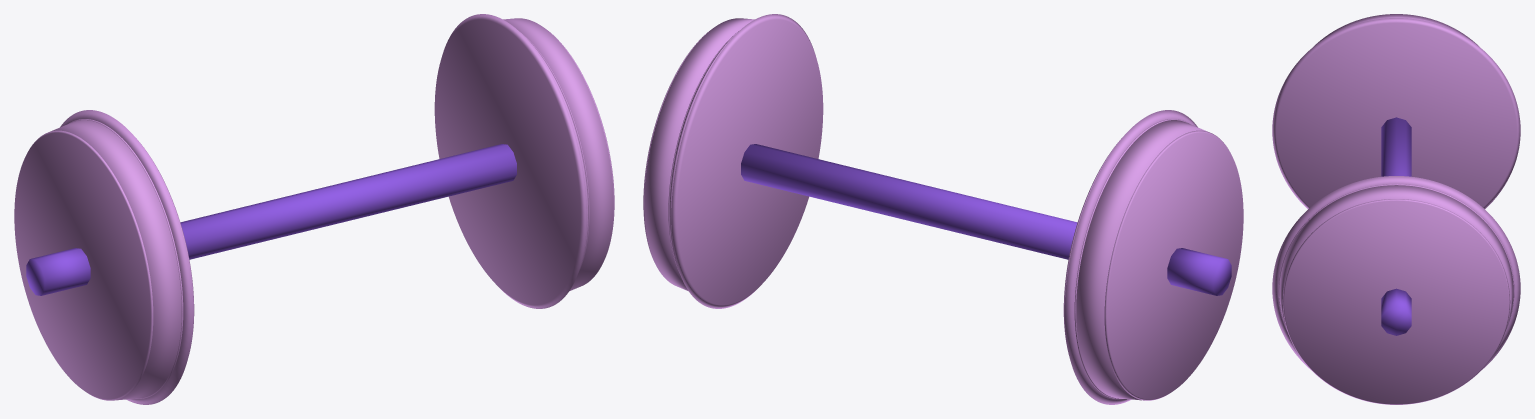
File: WS_LMA.obj
3 renders of one model, left to right at view 1: azimuth 30°, elevation 25°; view 2: azimuth 150°, elevation 25°; view 3: azimuth 270°, elevation 25°, orthographic. The views are drawn at different scales.
Visible parts, largest first — view 1: F1, T006, Axle, T005, T2, F004, L_axle, T004, F2; view 2: F1, T006, Axle, T005, T2, F004, L_axle, T004, F2; view 3: T3, F003, T2, F2, Axle, R_axle, T1, T005.
Part boxes in pixels (x1=…): F1: x1=434, y1=14, x2=586, y2=308; T006: x1=14, y1=130, x2=153, y2=400; Axle: x1=180, y1=144, x2=516, y2=259; T005: x1=50, y1=120, x2=181, y2=400; T2: x1=503, y1=18, x2=613, y2=291; F004: x1=60, y1=110, x2=193, y2=404; L_axle: x1=26, y1=248, x2=90, y2=295; T004: x1=69, y1=119, x2=183, y2=398; F2: x1=521, y1=33, x2=588, y2=269; F1: x1=671, y1=14, x2=823, y2=308; T006: x1=1104, y1=130, x2=1243, y2=400; Axle: x1=741, y1=144, x2=1077, y2=259; T005: x1=1076, y1=120, x2=1207, y2=400; T2: x1=644, y1=18, x2=754, y2=291; F004: x1=1064, y1=110, x2=1197, y2=404; L_axle: x1=1167, y1=248, x2=1231, y2=295; T004: x1=1074, y1=119, x2=1188, y2=398; F2: x1=669, y1=33, x2=736, y2=267; T3: x1=1282, y1=199, x2=1510, y2=404; F003: x1=1272, y1=18, x2=1520, y2=208; T2: x1=1279, y1=185, x2=1513, y2=328; F2: x1=1272, y1=176, x2=1520, y2=369; Axle: x1=1381, y1=117, x2=1411, y2=176; R_axle: x1=1381, y1=288, x2=1411, y2=335; T1: x1=1278, y1=184, x2=1514, y2=330; T005: x1=1314, y1=14, x2=1478, y2=45.
Bounding box in the file's own units: 1.95 × 0.9152 × 0.9152.
